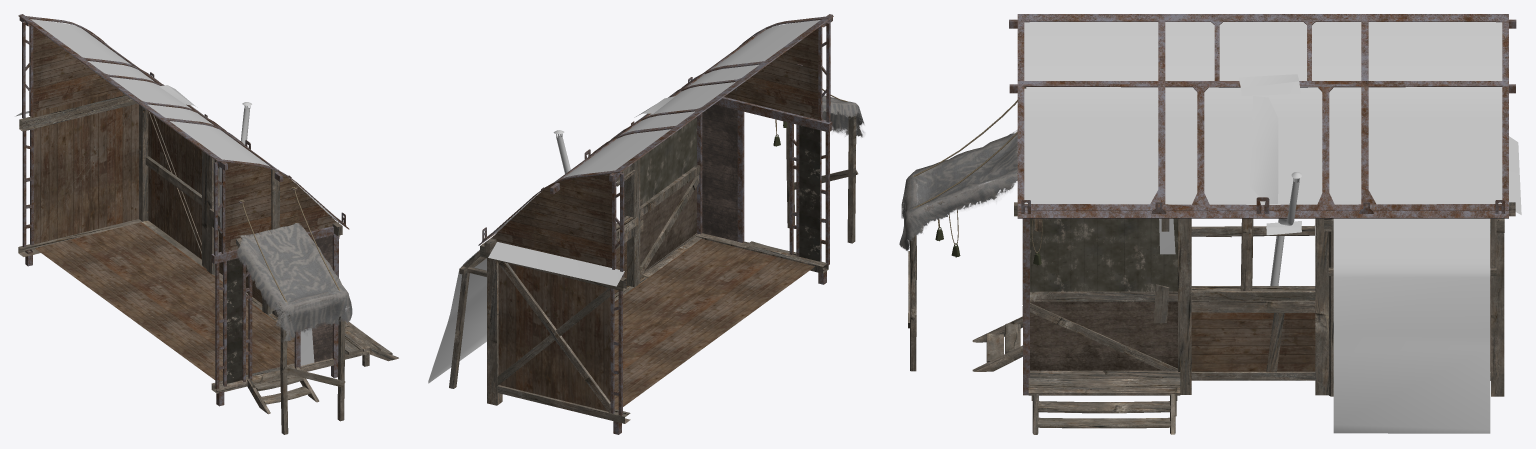
The picture shows the model from 3 angles, left to right: view 1: azimuth 30°, elevation 25°; view 2: azimuth 150°, elevation 25°; view 3: azimuth 270°, elevation 25°; orthographic projection. The views are drawn at different scales.
Visible parts, largest first — view 1: wood_planks_tile, Beam, fabrick.003, metal, Metal_rust.001, Metal, wood_planks, Metal_rust.002, rope; view 2: wood_planks_tile, Beam, wood_planks, metal, Metal_rust.001, Metal, Metal_rust, Metal_rust.002, fabrick.003; view 3: Metal_rust.001, Metal_rust, Beam, metal, wood_planks, wood_planks_tile, fabrick.003, Metal_rust.002, rope.
Boxes of the visible parts, left/top/right/bottom form: wood_planks_tile: left=31, top=27, right=336, bottom=381; Beam: left=18, top=95, right=398, bottom=434; fabrick.003: left=234, top=223, right=352, bottom=341; metal: left=18, top=15, right=349, bottom=382; Metal_rust.001: left=30, top=19, right=338, bottom=221; Metal: left=19, top=14, right=283, bottom=406; wood_planks: left=227, top=235, right=332, bottom=383; Metal_rust.002: left=15, top=85, right=314, bottom=365; rope: left=239, top=187, right=339, bottom=304; wood_planks_tile: left=492, top=28, right=818, bottom=411; Beam: left=449, top=30, right=858, bottom=423; wood_planks: left=640, top=104, right=819, bottom=271; metal: left=478, top=15, right=833, bottom=256; Metal_rust.001: left=490, top=20, right=820, bottom=236; Metal: left=550, top=14, right=832, bottom=434; Metal_rust: left=428, top=250, right=486, bottom=383; Metal_rust.002: left=488, top=96, right=675, bottom=286; fabrick.003: left=735, top=88, right=864, bottom=137; Metal_rust.001: left=1024, top=22, right=1502, bottom=204; Metal_rust: left=1333, top=218, right=1490, bottom=433; Beam: left=908, top=86, right=1515, bottom=434; metal: left=935, top=14, right=1508, bottom=395; wood_planks: left=1030, top=218, right=1177, bottom=370; wood_planks_tile: left=1191, top=218, right=1490, bottom=371; fabrick.003: left=899, top=130, right=1017, bottom=250; Metal_rust.002: left=1159, top=74, right=1521, bottom=285; rope: left=911, top=100, right=1042, bottom=253.
Size of the model in its own units: 3.4 by 4.23 by 7.79.
